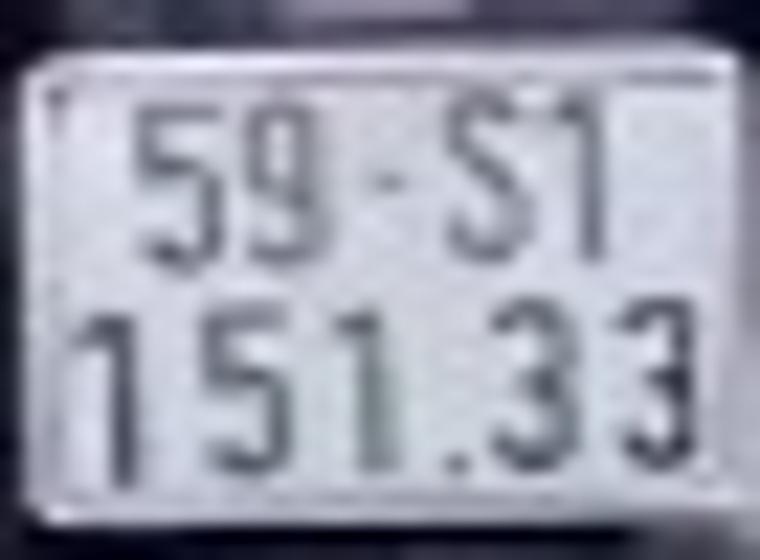-: (366, 162, 414, 200)
.: (439, 440, 485, 483)
1: (73, 304, 150, 495), (561, 78, 624, 273), (334, 300, 401, 478)
3: (621, 291, 707, 479), (492, 297, 581, 476)
5: (190, 292, 303, 483), (126, 101, 224, 278)
9: (232, 100, 338, 270)
S: (437, 75, 548, 277)
